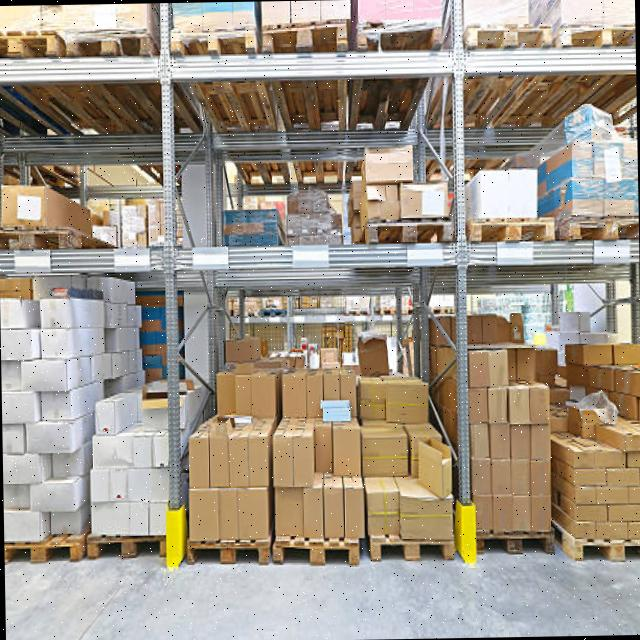Wooden-Pallets: (268, 533, 363, 574), (182, 532, 276, 573), (256, 18, 349, 54), (85, 528, 168, 566), (169, 22, 254, 59), (458, 20, 556, 52), (369, 532, 456, 567), (563, 206, 639, 246), (466, 213, 558, 244), (361, 217, 456, 246), (3, 536, 84, 568), (64, 30, 152, 58), (476, 532, 556, 558), (567, 537, 640, 560)
